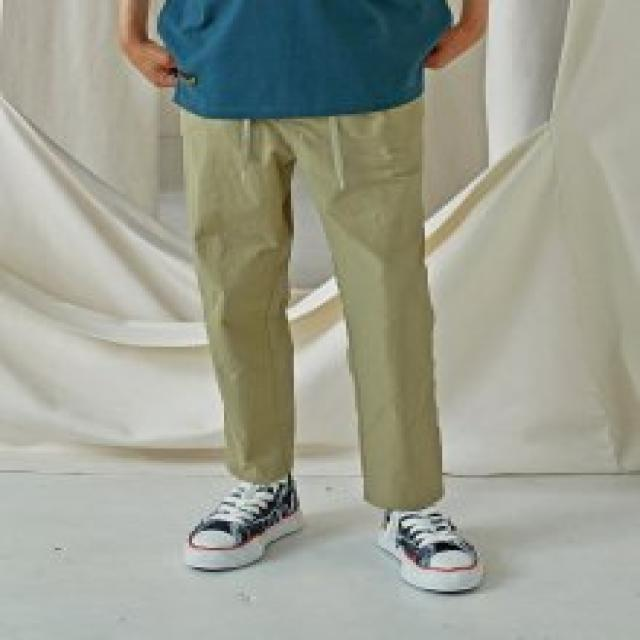long-pants: (176, 96, 442, 508)
